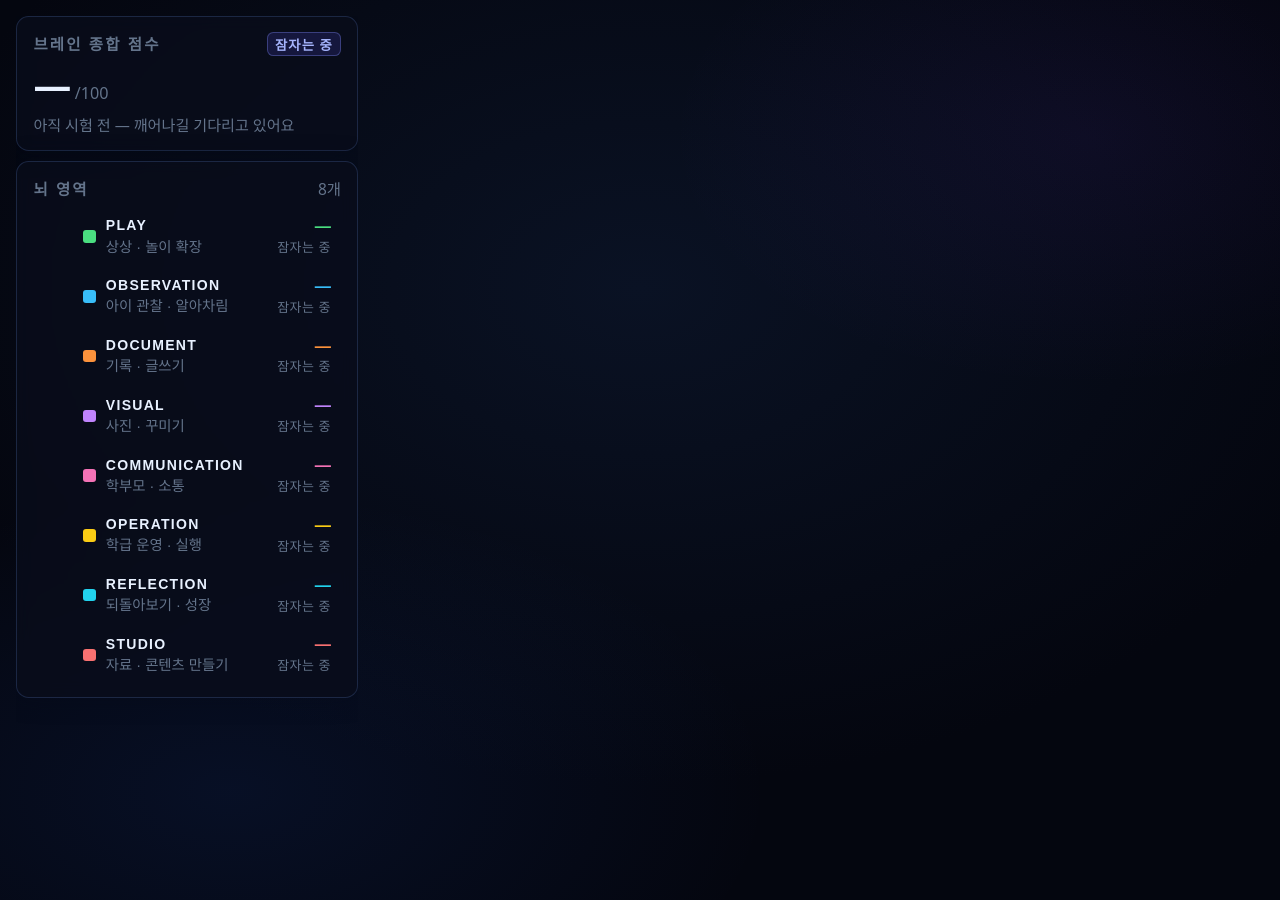
Test case: RegionsPanel (§7-2) › region 선택 시 §7-2 상세: Gold/Synthetic 실데이터 분리 표기, Reliability/Coverage "—"
Click the text "PLAY" at (126, 226), box [106,218,147,234]
(page scrolled)
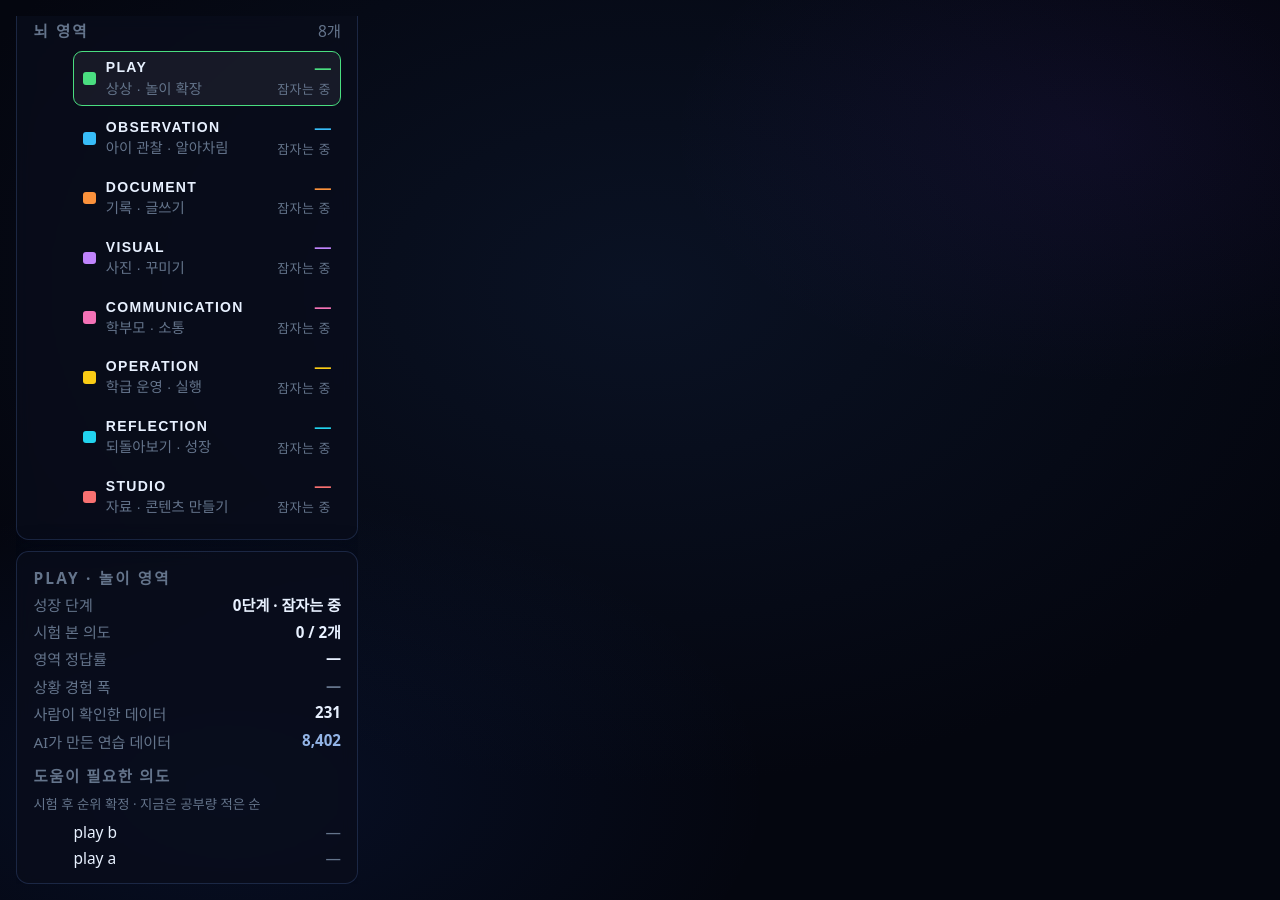
Now the text "231" is shown, box [315,702,341,724]
Now the text "8,402" is shown, box [302,730,341,752]
Now the text "—" in the row of "상황 경험 폭" is shown, box [326,675,341,695]
